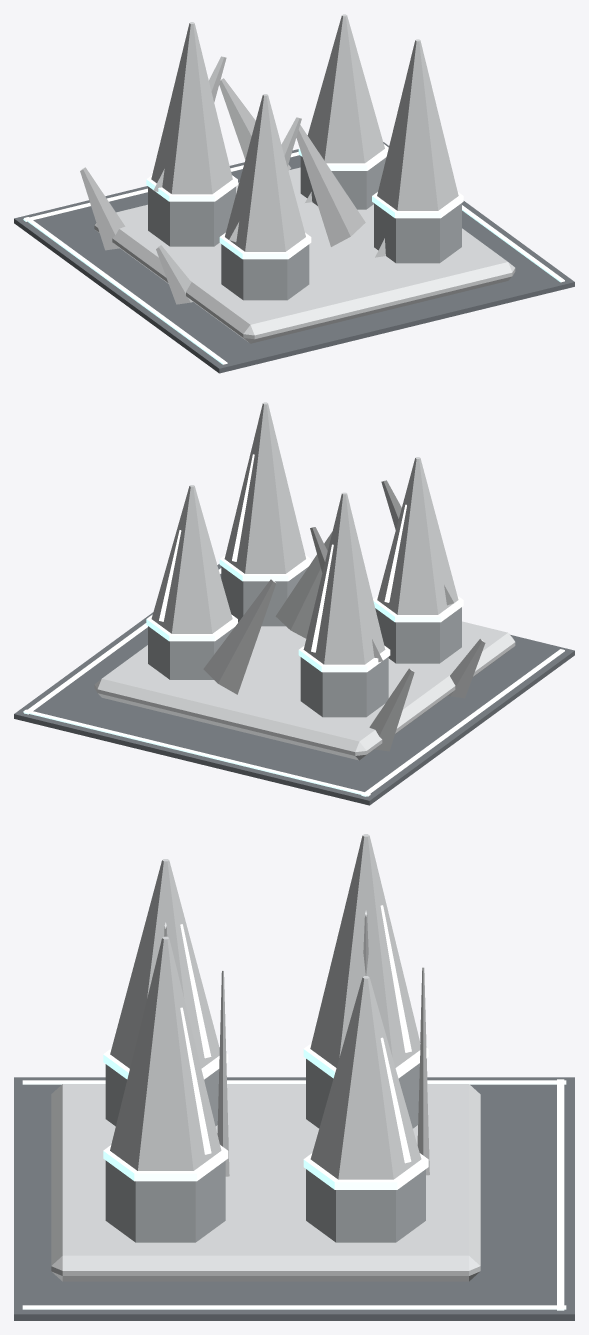
The model's file is zone_low_4.glb.
The picture shows the model from 3 angles, top to bottom: view 1: azimuth 30°, elevation 25°; view 2: azimuth 150°, elevation 25°; view 3: azimuth 270°, elevation 25°; orthographic projection. The views are drawn at different scales.
Visible parts, largest first — view 1: zone_low_4, detail; view 2: zone_low_4, detail; view 3: zone_low_4, detail.
Part boxes in pixels (x1,y1,x2,y2): zone_low_4: (14, 14, 574, 373); detail: (23, 152, 564, 364); zone_low_4: (14, 402, 574, 805); detail: (23, 568, 564, 796); zone_low_4: (14, 834, 574, 1320); detail: (22, 1079, 566, 1310).
Size of the model in its own units: 19.6 by 14.79 by 19.6.
